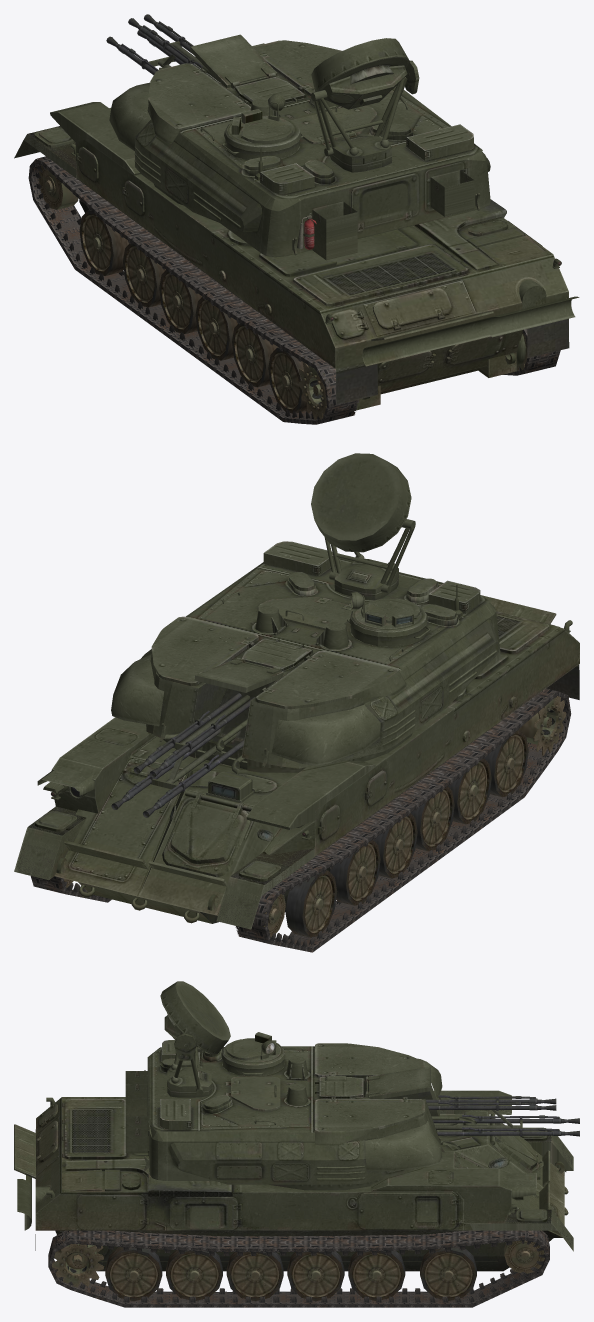
File: zsu234.glb
3 views of the same model, one above another, from view 1: azimuth 30°, elevation 25°; view 2: azimuth 150°, elevation 25°; view 3: azimuth 270°, elevation 25° (orthographic). The views are drawn at different scales.
Parts seen in each view (by area): view 1: hull, turret, track_l, radar, guns, wheel_l1, wheel_l5, wheel_l2, wheel_l3, wheel_l4, wheel_l6, wheel_l7 (+2 smaller); view 2: hull, turret, track_l, radar, guns, wheel_l1, wheel_l2, wheel_l6, wheel_l3, wheel_l5, wheel_l4, wheel_l7 (+1 smaller); view 3: hull, turret, track_r, radar, guns, wheel_r6, wheel_r1, wheel_r5, wheel_r2, wheel_r3, wheel_r4, wheel_r7 (+1 smaller).
Boxes of the visible parts, x1,y1,x2,y2 form: hull: (14,43,579,410); turret: (109,34,490,260); track_l: (28,156,359,424); radar: (311,38,419,172); guns: (106,14,219,82); wheel_l1: (79,209,129,275); wheel_l5: (232,323,278,387); wheel_l2: (123,243,165,307); wheel_l3: (159,270,202,333); wheel_l4: (195,295,237,360); wheel_l6: (268,346,313,413); wheel_l7: (298,359,331,419); hull: (14,595,579,929); turret: (111,541,500,772); track_l: (235,688,571,952); radar: (311,453,415,600); guns: (111,693,254,817); wheel_l1: (285,869,337,937); wheel_l2: (330,838,380,905); wheel_l6: (484,729,528,797); wheel_l3: (374,812,417,878); wheel_l5: (448,757,491,824); wheel_l4: (410,784,454,851); wheel_l7: (513,693,566,755); hull: (14,1090,573,1271); turret: (125,1032,444,1190); track_r: (48,1230,549,1307); radar: (160,981,230,1097); guns: (426,1095,579,1149); wheel_r6: (105,1247,162,1301); wheel_r1: (420,1246,476,1300); wheel_r5: (166,1250,222,1300); wheel_r2: (348,1250,405,1300); wheel_r3: (287,1251,344,1301); wheel_r4: (226,1252,283,1301); wheel_r7: (51,1234,104,1287).
Bounding box in the file's own units: 2.98 × 3.78 × 7.04.
6 materials, 6 textured.
